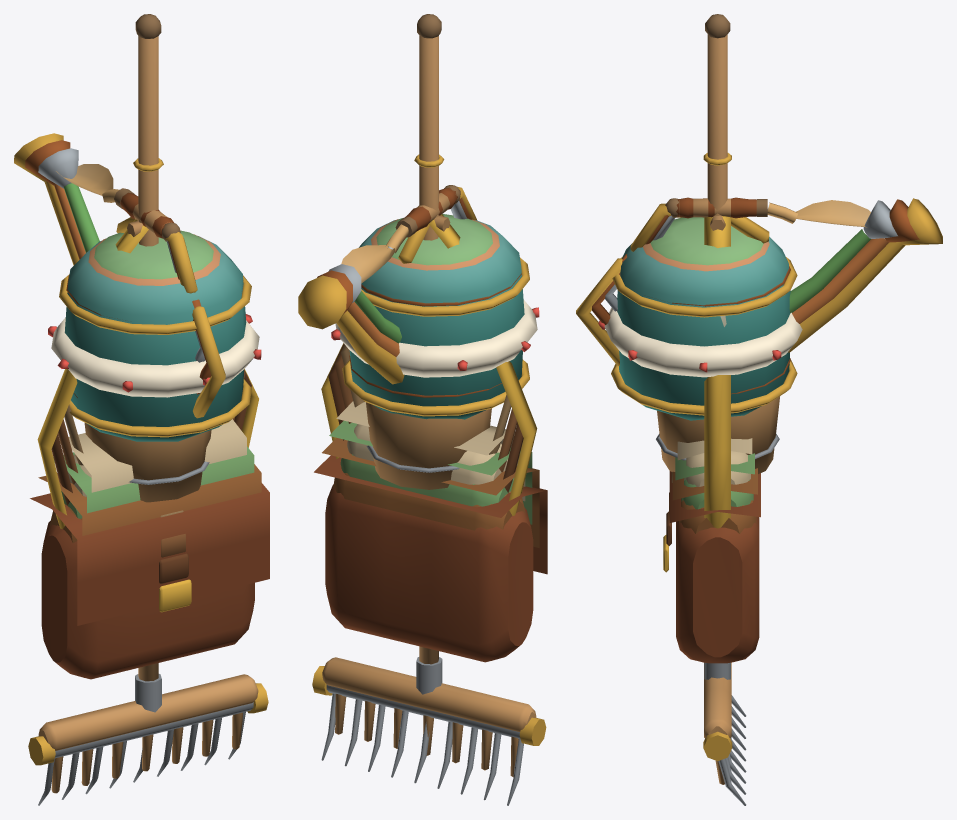
Rendered from tools.glb.
3 renders of one model, left to right at view 1: azimuth 30°, elevation 25°; view 2: azimuth 150°, elevation 25°; view 3: azimuth 270°, elevation 25°, orthographic. The views are drawn at different scales.
Visible parts, largest first — view 1: bag_4, can_3, rake_1, bag_3, can_1, bucket, rake_2, bag_1, bag_2, can_2, shovel_1, rake_3 (+1 smaller); view 2: bag_4, can_3, rake_1, bucket, bag_3, rake_2, bag_2, can_1, bag_1, can_2, shovel_1, rake_3 (+1 smaller); view 3: can_3, bag_4, can_1, rake_1, can_2, bucket, shovel_1, bag_3, rake_2, bag_1, bag_2, shovel_3 (+1 smaller).
Part boxes in pixels (x1,y1,x2,y2): bag_4: [30, 219, 269, 679]; can_3: [14, 133, 261, 441]; rake_1: [38, 14, 258, 793]; bag_3: [38, 370, 261, 583]; can_1: [38, 148, 213, 362]; bucket: [84, 216, 211, 502]; rake_2: [38, 674, 253, 805]; bag_1: [59, 404, 246, 517]; bag_2: [53, 371, 254, 557]; can_2: [25, 140, 220, 397]; shovel_1: [56, 164, 180, 241]; rake_3: [28, 158, 268, 765]; bag_4: [314, 214, 547, 662]; can_3: [298, 186, 539, 419]; rake_1: [322, 14, 536, 777]; bucket: [366, 215, 491, 489]; bag_3: [322, 344, 539, 547]; rake_2: [321, 657, 523, 805]; bag_2: [329, 344, 532, 524]; can_1: [328, 201, 492, 343]; bag_1: [336, 345, 525, 501]; can_2: [317, 198, 521, 397]; shovel_1: [341, 185, 460, 283]; rake_3: [312, 154, 546, 745]; can_3: [576, 198, 942, 420]; bag_4: [663, 216, 760, 663]; can_1: [605, 200, 897, 312]; rake_1: [704, 14, 731, 784]; can_2: [592, 199, 919, 394]; bucket: [656, 215, 779, 473]; shovel_1: [665, 198, 870, 227]; bag_3: [666, 468, 757, 545]; rake_2: [704, 662, 746, 805]; bag_1: [671, 438, 752, 486]; bag_2: [669, 453, 754, 520]; shovel_3: [676, 197, 756, 218].
Bounding box in the file's own units: 0.45 × 1.49 × 0.6618.
